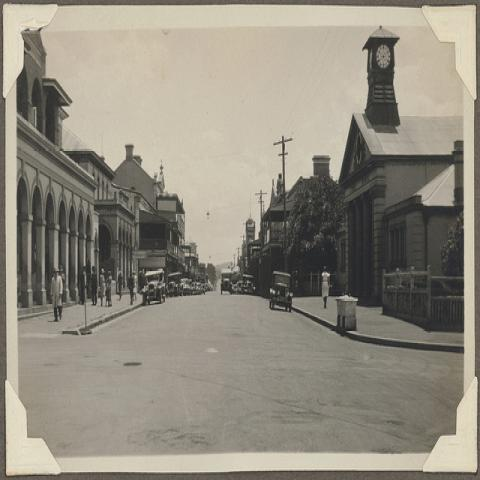car: (268, 271, 293, 311), (141, 268, 166, 304), (168, 273, 184, 298), (220, 269, 232, 295), (242, 274, 255, 294), (192, 282, 200, 294)
